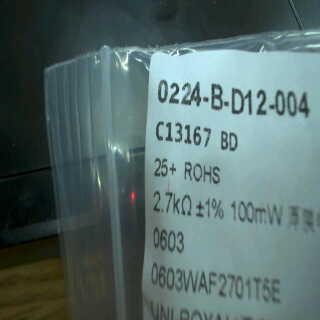2.7kR: (149, 189, 197, 218)
